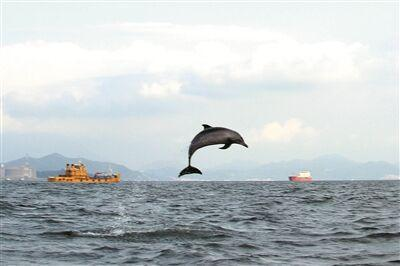fish: (177, 121, 250, 180)
otherboat: (46, 155, 125, 186), (287, 167, 318, 181)
